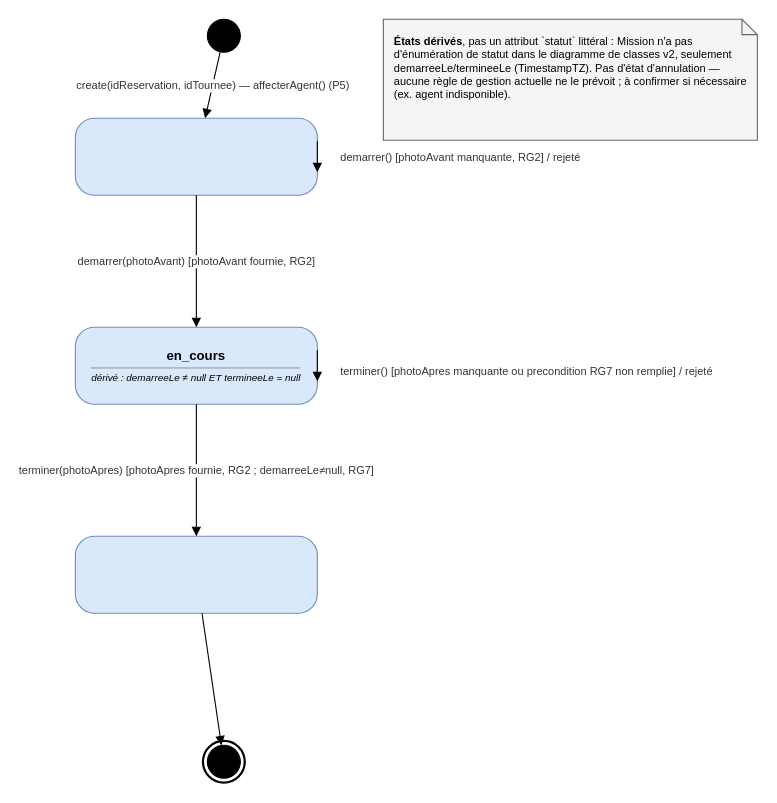
The diagram is 777 pixels wide and 803 high, and some of its shapes have lost their labels. Each missing label, with the centre of its shape:
"planifiee dérivé : demarreeLe = null ET termineeLe = null" belongs at pixel 195 156.
"terminee dérivé : demarreeLe ≠ null ET termineeLe ≠ null" belongs at pixel 195 574.
